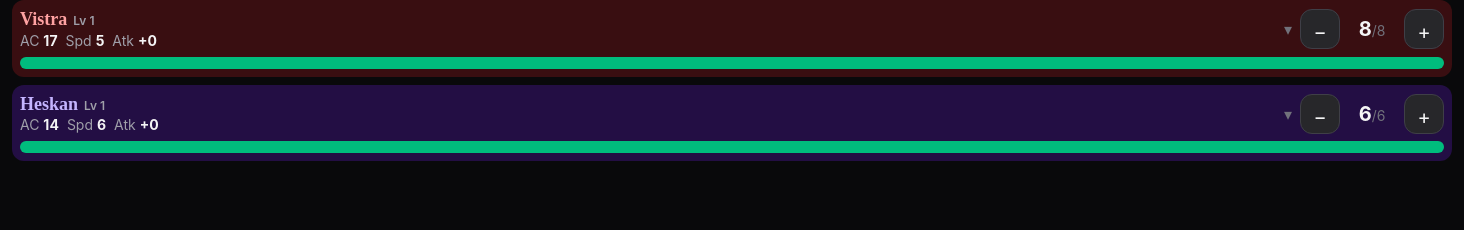
Scenario: the Party tab beside the board › opens a hero card in place of its row (no double) and closes it again
Click the button "Heskan": (49, 104) [20,92,1292,135]
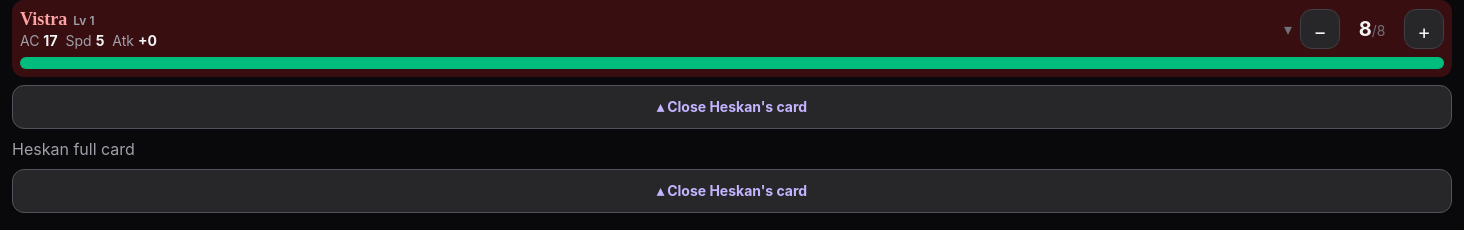
Now the number of elements with test id "card" is 1, box [12,138,135,158]
Click the 2nd button "▴ Close Heskan's card": (732, 190) [12,168,1452,212]
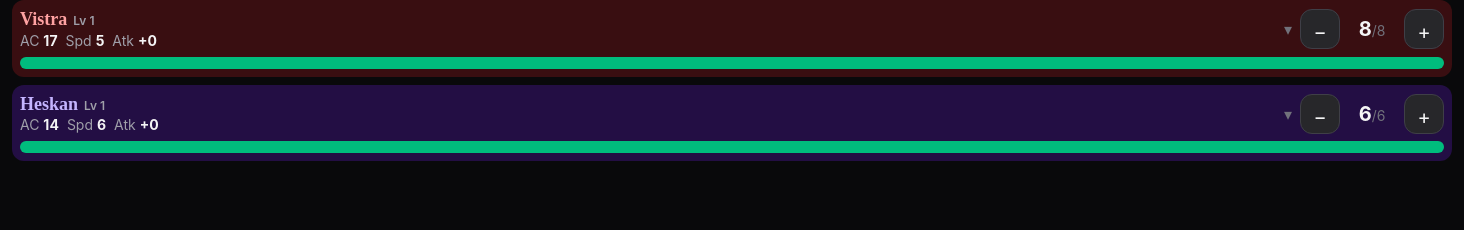
Now the button with test id "card" is gone
